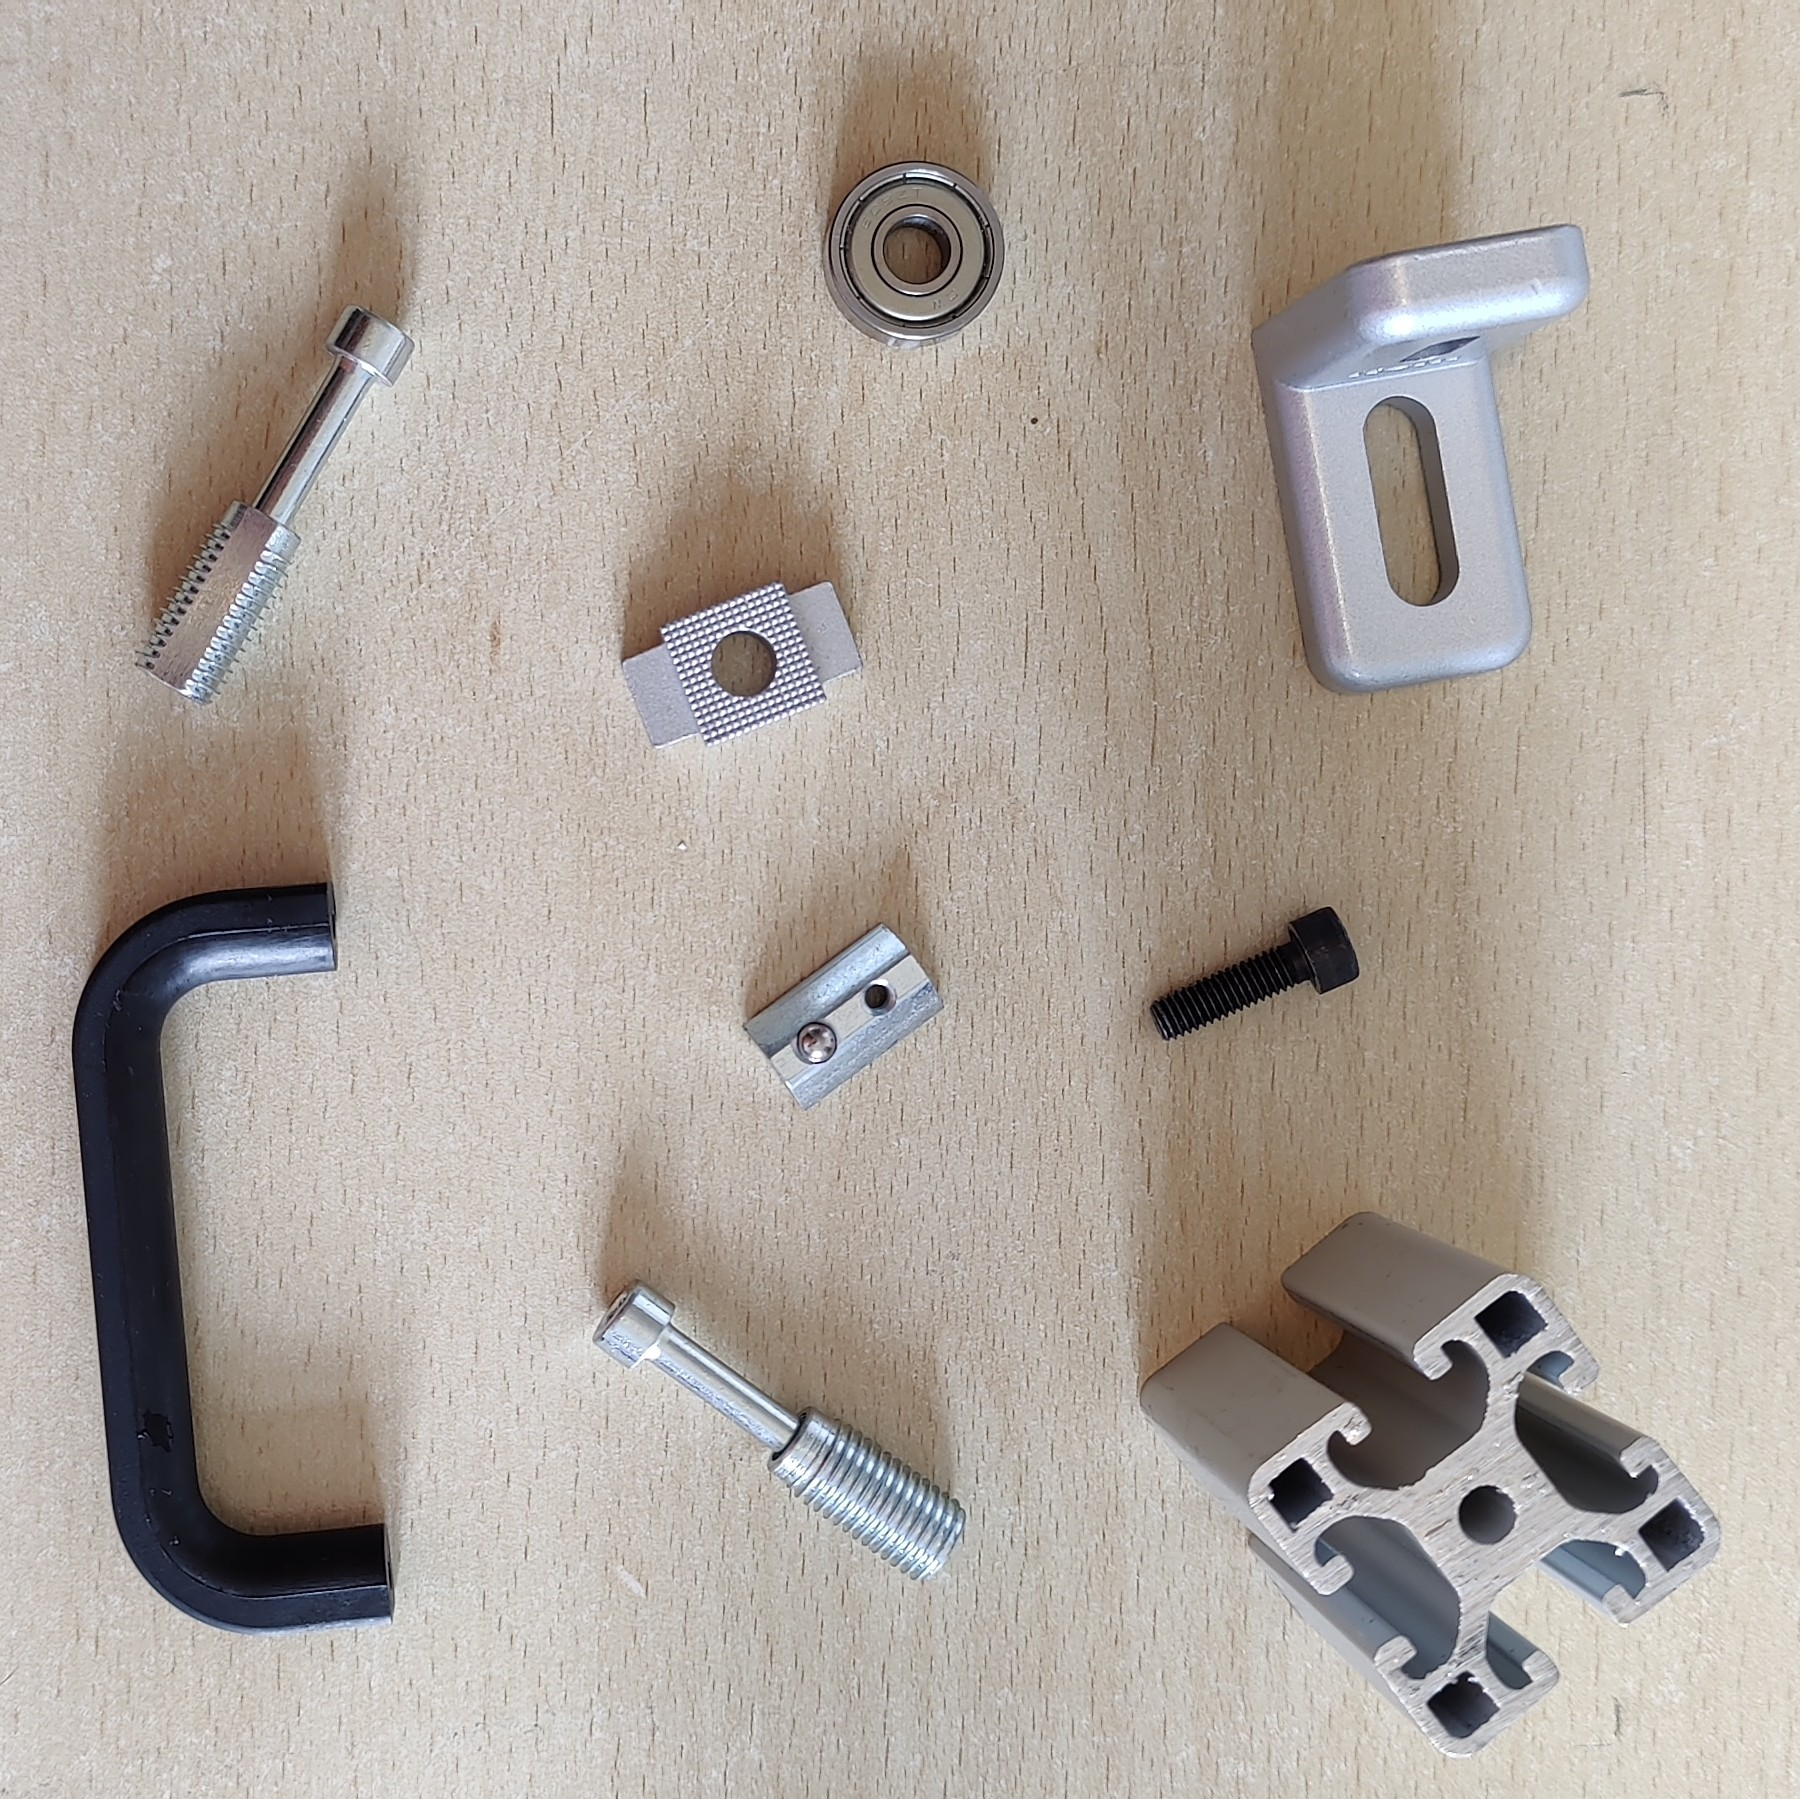Aluminium Extension: (1138, 1208, 1724, 1761)
Ball Bearing: (817, 157, 1008, 349)
Multiwinkel: (1247, 221, 1592, 695)
Pull Handle: (68, 876, 399, 1639)
Shoulder Socket Head Cap Screw: (593, 1275, 967, 1586), (132, 301, 417, 707)
Socket Head Cap Screw: (1148, 903, 1364, 1038)
T Nut Square: (618, 577, 866, 755)
T Spring Nut: (739, 918, 947, 1110)
